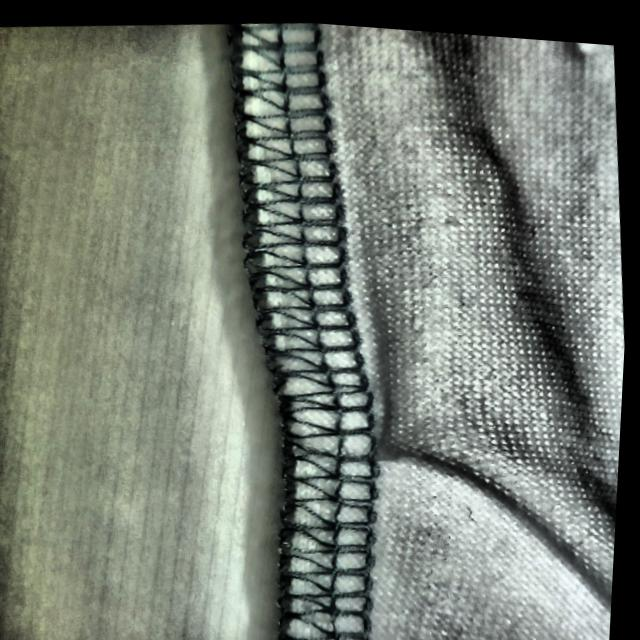seam: (201, 281, 535, 542)
